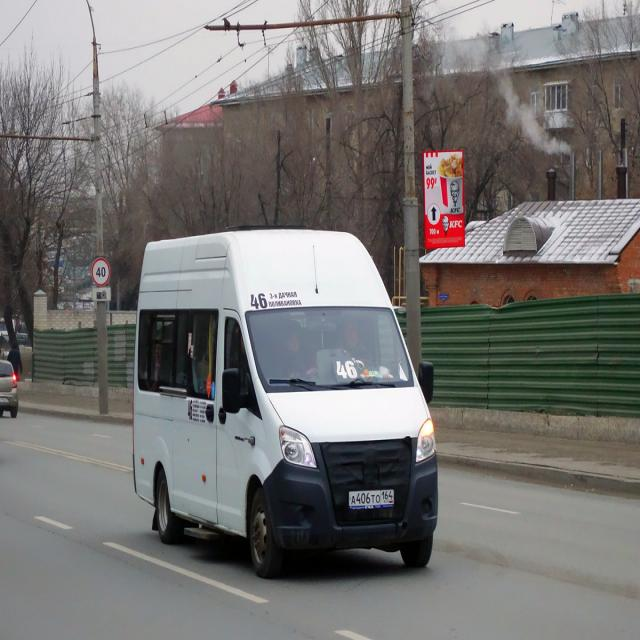number-of-bus: (336, 358, 360, 383), (251, 292, 269, 312)
